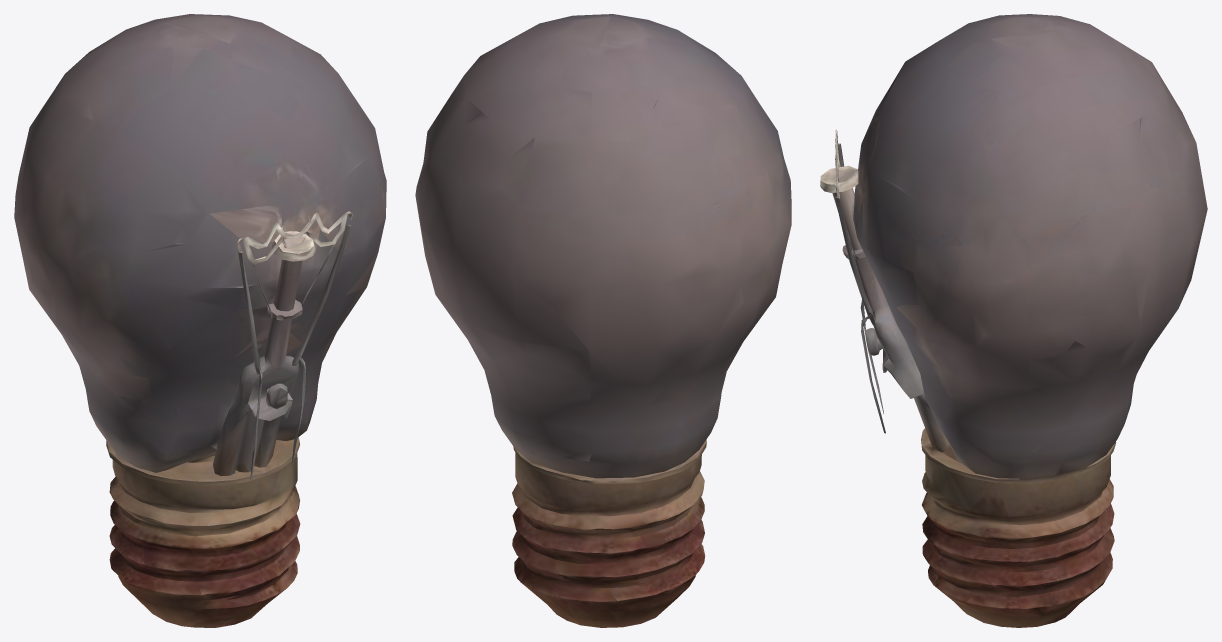
File: lightbulb_nakalivaniya_idle.glb
The picture shows the model from 3 angles, left to right: view 1: azimuth 30°, elevation 25°; view 2: azimuth 150°, elevation 25°; view 3: azimuth 270°, elevation 25°; orthographic projection.
Visible parts, largest first — view 1: tripo_node_dce0a374-04c4-47af-a5fd-e2834bfb1dc4; view 2: tripo_node_dce0a374-04c4-47af-a5fd-e2834bfb1dc4; view 3: tripo_node_dce0a374-04c4-47af-a5fd-e2834bfb1dc4.
Boxes of the visible parts, bbox=[...] form: tripo_node_dce0a374-04c4-47af-a5fd-e2834bfb1dc4: bbox=[14, 14, 386, 627]; tripo_node_dce0a374-04c4-47af-a5fd-e2834bfb1dc4: bbox=[415, 14, 791, 627]; tripo_node_dce0a374-04c4-47af-a5fd-e2834bfb1dc4: bbox=[820, 14, 1207, 627].
Size of the model in its own units: 0.0722 by 0.12 by 0.0738.
1 material, 1 textured.
